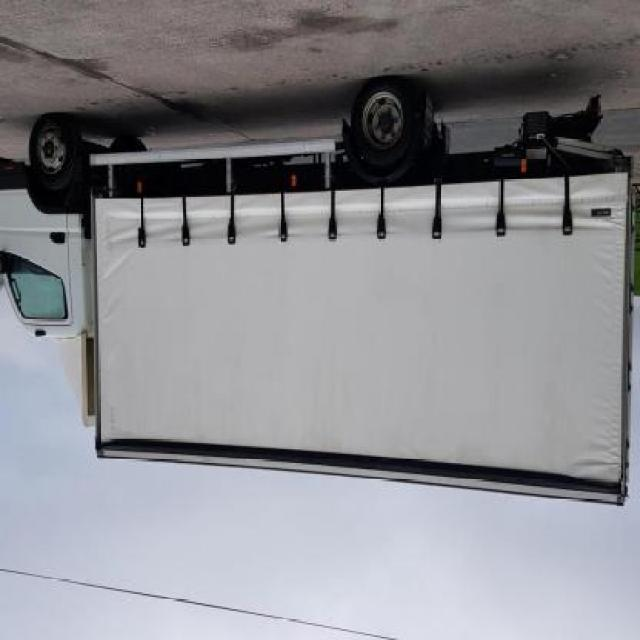truck: (1, 81, 632, 506)
